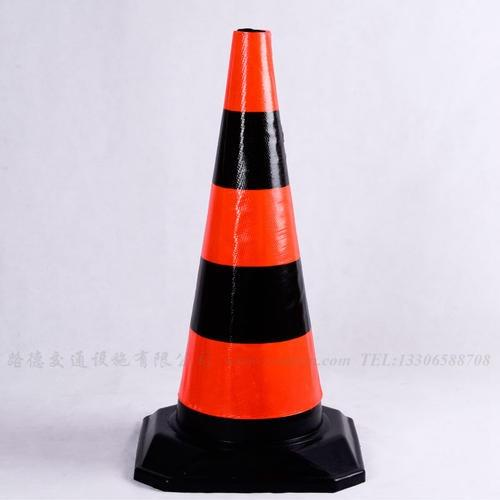cone_barrel: (156, 34, 347, 471)
